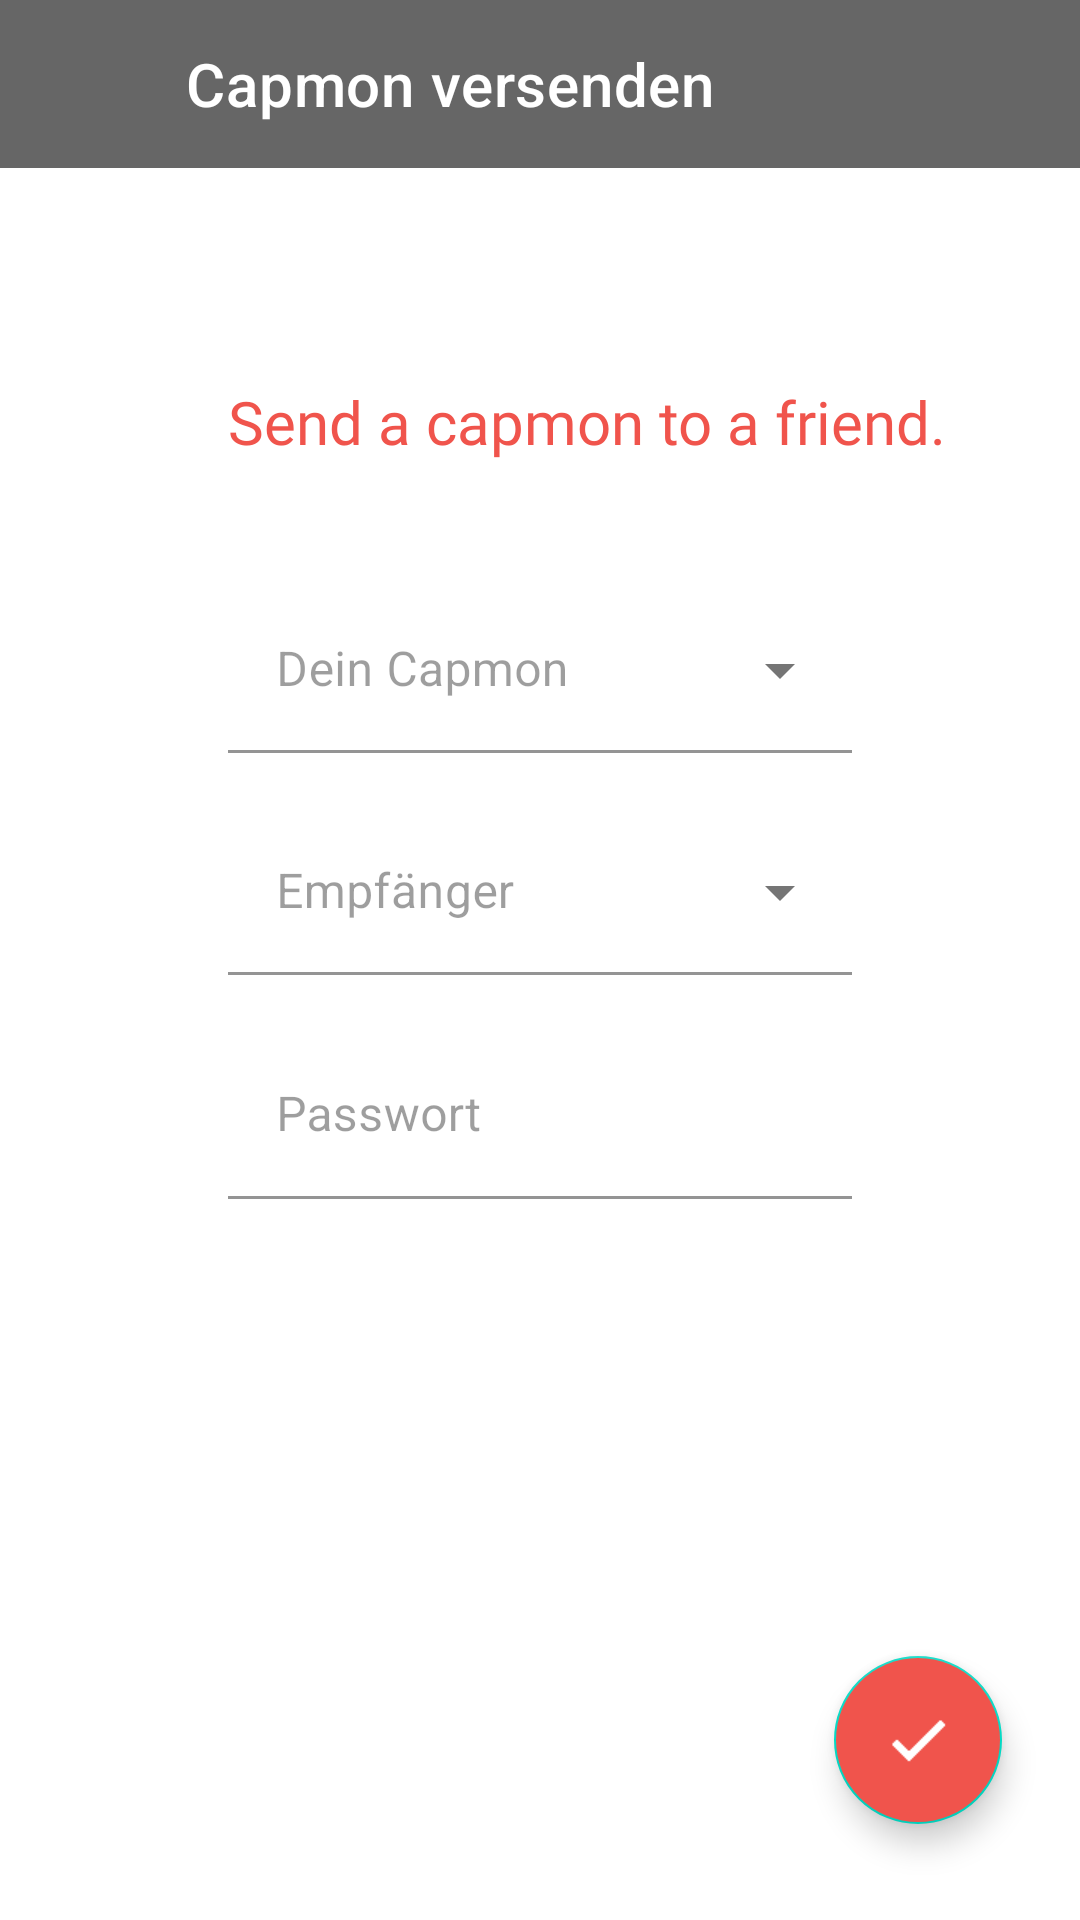

Named icons in this screenshot (1080x1920) and their centers, point (x, y):
done: point (918, 1740)
